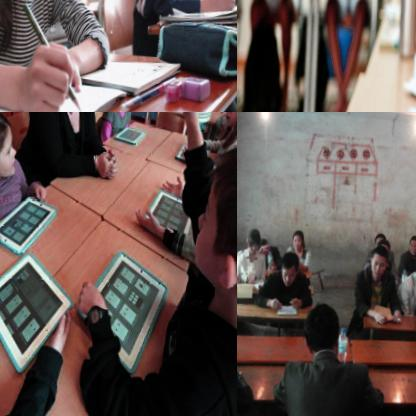head: (181, 136, 237, 310), (298, 300, 342, 356), (0, 112, 20, 190), (276, 253, 300, 292), (366, 249, 388, 281), (242, 228, 262, 258), (289, 232, 303, 253), (375, 239, 391, 257), (371, 232, 384, 251), (405, 236, 416, 257), (410, 251, 416, 284), (257, 240, 270, 255)
